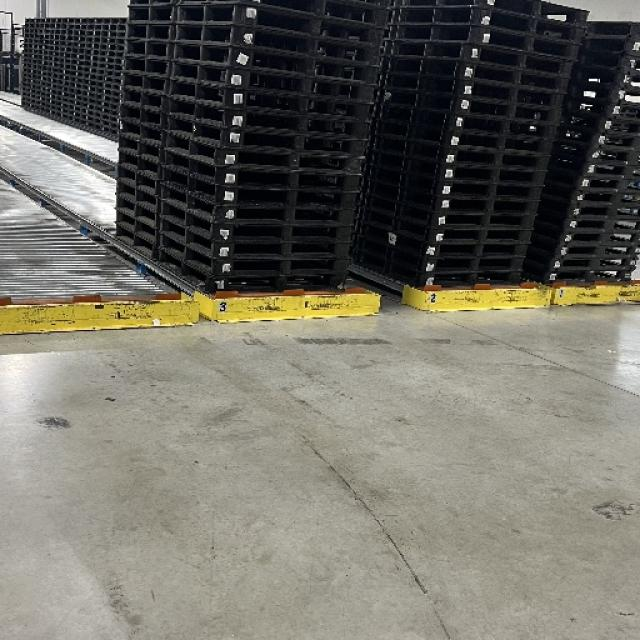igps: (165, 57, 378, 108), (170, 20, 383, 71), (156, 228, 352, 283), (168, 40, 383, 90), (156, 163, 361, 215), (153, 244, 350, 298), (171, 3, 387, 52), (158, 195, 356, 248), (156, 213, 354, 265), (165, 95, 374, 144), (164, 130, 366, 180), (157, 182, 358, 231), (162, 147, 363, 196), (166, 79, 375, 125), (165, 114, 369, 161), (172, 0, 389, 32), (468, 0, 587, 49), (468, 22, 582, 66), (464, 42, 577, 82), (460, 61, 571, 98), (454, 94, 566, 130), (458, 78, 567, 114), (470, 0, 591, 31), (444, 126, 555, 159), (450, 112, 560, 144), (442, 142, 552, 173), (437, 176, 544, 206), (439, 162, 548, 190), (432, 195, 540, 221), (430, 208, 538, 234), (423, 239, 530, 263), (425, 225, 534, 248), (420, 270, 524, 292), (420, 256, 526, 276), (541, 265, 633, 287), (555, 230, 640, 249), (580, 142, 640, 168), (547, 254, 638, 271), (550, 240, 640, 257), (564, 203, 640, 220), (559, 218, 640, 233), (577, 161, 640, 180), (587, 129, 640, 151), (573, 174, 640, 191), (569, 188, 640, 204), (593, 115, 640, 135), (601, 101, 640, 120), (604, 87, 640, 106)
